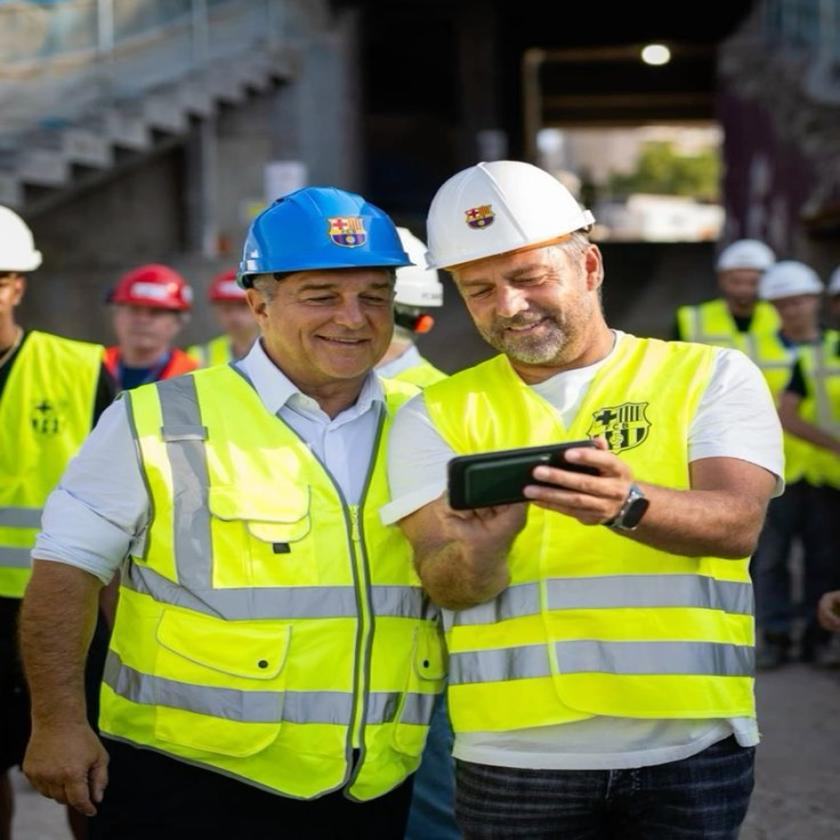Con_casco: (430, 160, 618, 368), (236, 176, 412, 398)
